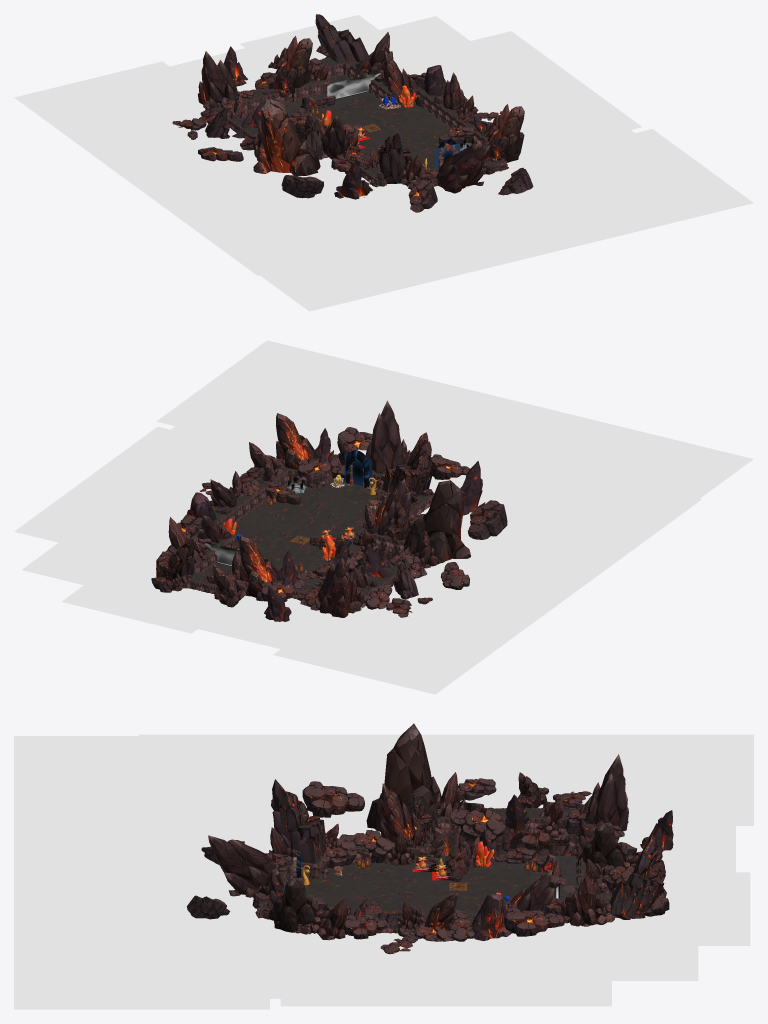
File: LevelMap_1070105.glb
The picture shows the model from 3 angles, top to bottom: view 1: azimuth 30°, elevation 25°; view 2: azimuth 150°, elevation 25°; view 3: azimuth 270°, elevation 25°; orthographic projection. The views are drawn at different scales.
Parts seen in each view (by area): view 1: EnvCavern_Detail__Lava_9__u3166, EnvCavern_Detail__Lava_5__u2527, EnvCavern_Detail__Lava_4__u2705, EnvCavern_Detail__Lava_7__u2948, EnvCavern_Detail__Lava_8__u3409, EnvCavern_Detail__Lava_6__u3270, EnvCavern_Detail__Lava_3__u3396, EnvCavern_Detail__Rock___1__u3652, EnvCavern_Detail__Lava_1__u3699, New_Terrain_2__u3667, New_Terrain_3__u3941, EnvCavern_Detail__Lava_2__u3711 (+18 smaller); view 2: EnvCavern_Detail__Lava_9__u3166, EnvCavern_Detail__Lava_5__u2527, EnvCavern_Detail__Lava_4__u2705, EnvCavern_Detail__Lava_7__u2948, EnvCavern_Detail__Lava_8__u3409, EnvCavern_Detail__Lava_3__u3396, EnvCavern_Detail__Lava_1__u3699, New_Terrain_2__u3667, EnvCavern_Detail__Lava_2__u3711, EnvCavern_Detail__Lava_6__u3270, EnvCavern_Detail__Rock___1__u3652, New_Terrain_3__u3941 (+18 smaller); view 3: EnvCavern_Detail__Lava_9__u3166, EnvCavern_Detail__Lava_5__u2527, EnvCavern_Detail__Lava_4__u2705, EnvCavern_Detail__Lava_8__u3409, EnvCavern_Detail__Lava_7__u2948, EnvCavern_Detail__Lava_3__u3396, EnvCavern_Detail__Lava_2__u3711, New_Terrain_2__u3667, EnvCavern_Detail__Lava_1__u3699, EnvCavern_Detail__Rock___1__u3652, EnvCavern_Detail__Lava_6__u3270, New_Terrain_3__u3941 (+34 smaller).
Part boxes in pixels (x1,y1,x2,y2): EnvCavern_Detail__Lava_9__u3166: (210,129,753,311); EnvCavern_Detail__Lava_5__u2527: (14,61,403,275); EnvCavern_Detail__Lava_4__u2705: (393,31,642,154); EnvCavern_Detail__Lava_7__u2948: (266,183,494,281); EnvCavern_Detail__Lava_8__u3409: (506,129,714,229); EnvCavern_Detail__Lava_6__u3270: (202,157,427,253); EnvCavern_Detail__Lava_3__u3396: (317,16,500,76); EnvCavern_Detail__Rock___1__u3652: (253,99,320,176); EnvCavern_Detail__Lava_1__u3699: (134,46,277,113); New_Terrain_2__u3667: (358,113,471,185); New_Terrain_3__u3941: (283,74,431,129); EnvCavern_Detail__Lava_2__u3711: (240,15,410,70); EnvCavern_Detail__Lava_9__u3166: (156,340,753,540); EnvCavern_Detail__Lava_5__u2527: (273,462,701,694); EnvCavern_Detail__Lava_4__u2705: (14,426,276,566); EnvCavern_Detail__Lava_7__u2948: (429,419,657,531); EnvCavern_Detail__Lava_8__u3409: (167,356,412,457); EnvCavern_Detail__Lava_3__u3396: (22,518,171,600); EnvCavern_Detail__Lava_1__u3699: (194,595,376,659); New_Terrain_2__u3667: (236,478,380,553); EnvCavern_Detail__Lava_2__u3711: (61,560,227,633); EnvCavern_Detail__Lava_6__u3270: (419,460,631,572); EnvCavern_Detail__Rock___1__u3652: (403,480,470,563); New_Terrain_3__u3941: (205,525,355,584); EnvCavern_Detail__Lava_9__u3166: (14,736,269,1009); EnvCavern_Detail__Lava_5__u2527: (139,734,753,825); EnvCavern_Detail__Lava_4__u2705: (280,924,611,1006); EnvCavern_Detail__Lava_8__u3409: (47,917,290,998); EnvCavern_Detail__Lava_7__u2948: (58,779,301,860); EnvCavern_Detail__Lava_3__u3396: (533,911,698,980); EnvCavern_Detail__Lava_2__u3711: (618,872,750,945); New_Terrain_2__u3667: (291,856,458,913); EnvCavern_Detail__Lava_1__u3699: (618,803,735,872); EnvCavern_Detail__Rock___1__u3652: (366,723,441,838); EnvCavern_Detail__Lava_6__u3270: (170,766,385,842); New_Terrain_3__u3941: (458,856,612,913).
Bounding box in the file's own units: 73.05 × 20.08 × 83.03.
40 materials, 39 textured.
